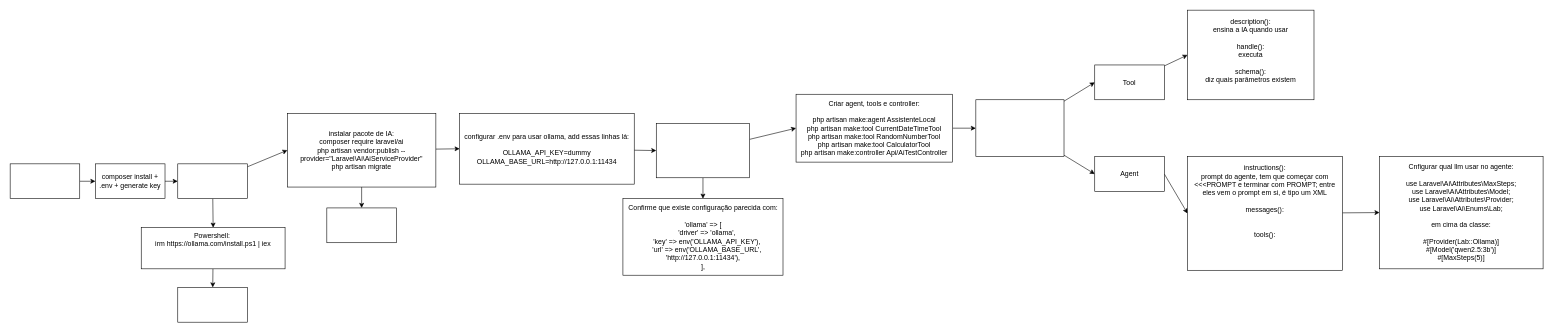
Image size: 1553x332. Some labels were removed from this diagram. The shapes that lost their labels are listed below. From the top down, each one's centre as x and y in pixels, then its label:
At point 1019,128: "O lugar para editar e mexer nas coisas de IA ficam na pasta: app/Ai".
At point 703,150: "Configurar para usar o ollama como modelo LLM. config/ai.php".
At point 45,181: "Criar projeto laravel 13".
At point 212,181: "baixar ollama + modelo".
At point 361,225: "Instalar api: php artisan install:api".
At point 212,304: "baixar modelo: ollama pull qwen2.5:3b".
